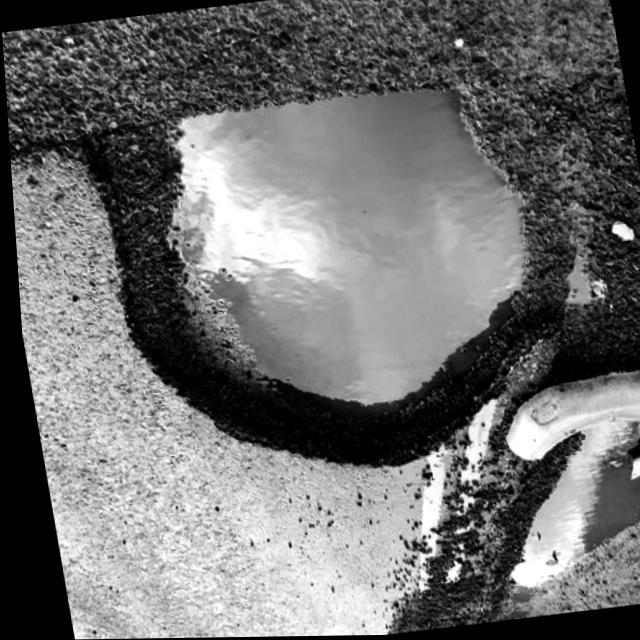pathole: (41, 5, 617, 515), (438, 406, 640, 606)
